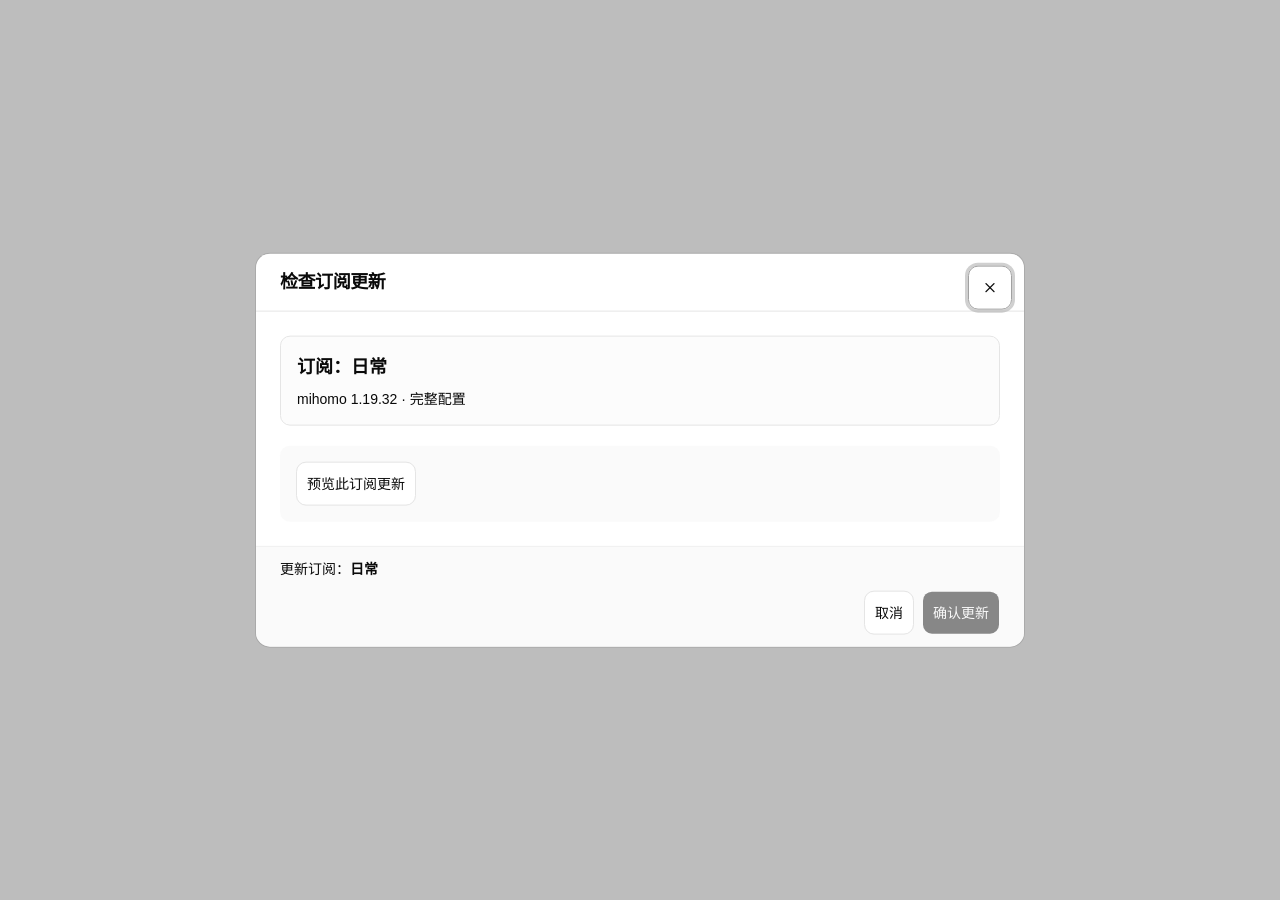
discloses the reviewed replacement access link before publishing a revoked subscription
Expected: the text "在客户端换用新链接" is not shown
Expected: the button with aria-label "确认更新「日常」" is disabled, [922, 590, 1000, 634]
Click the button "预览此订阅更新" at (356,483), box [296, 461, 416, 505]
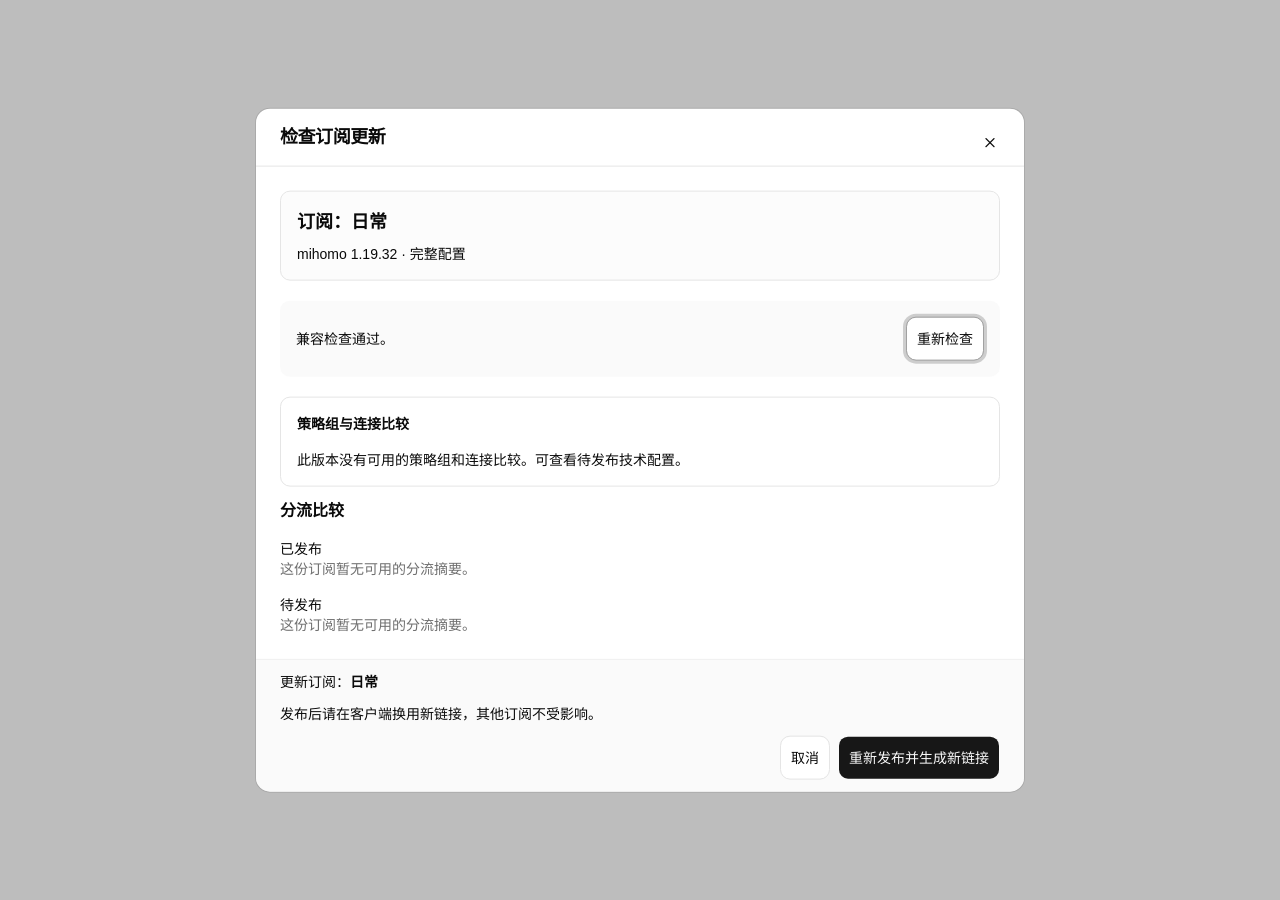
Expected: the button with aria-label "重新发布并生成新链接「日常」" is enabled, [838, 735, 1000, 779]
